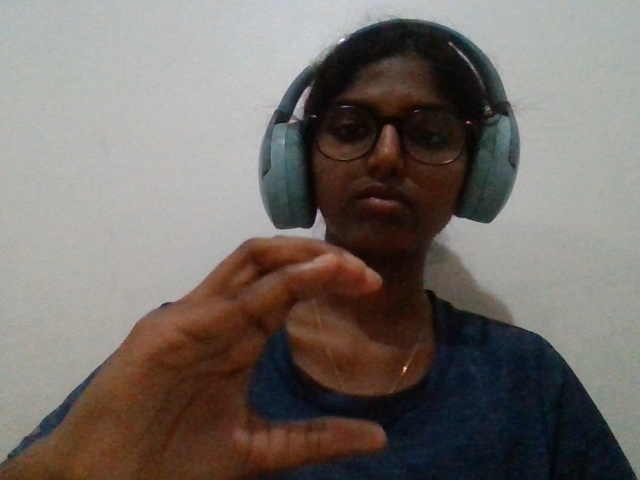C: (49, 184, 417, 480)
